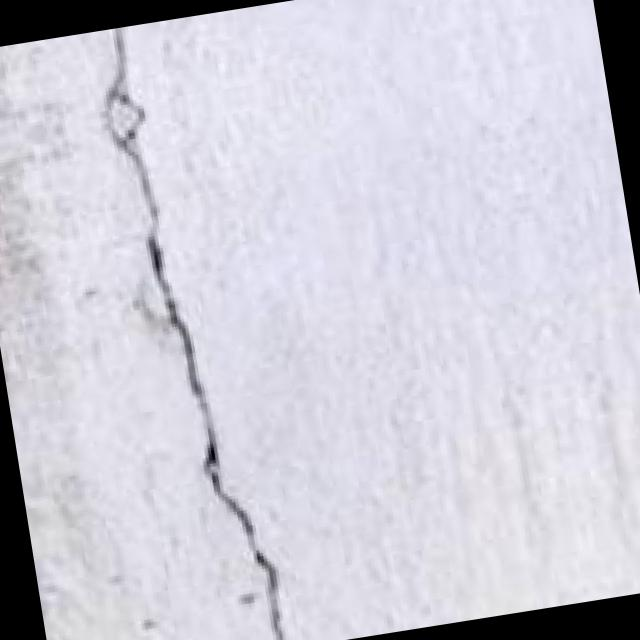crack: (17, 19, 296, 640)
